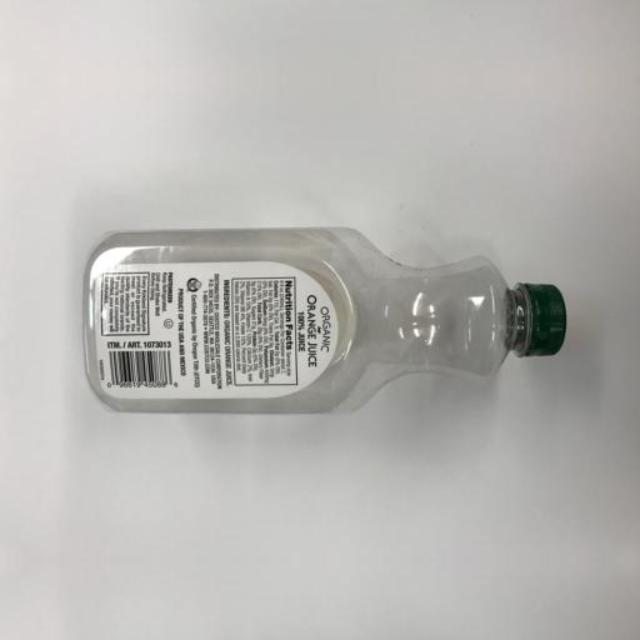Plastic: (75, 205, 580, 428)
